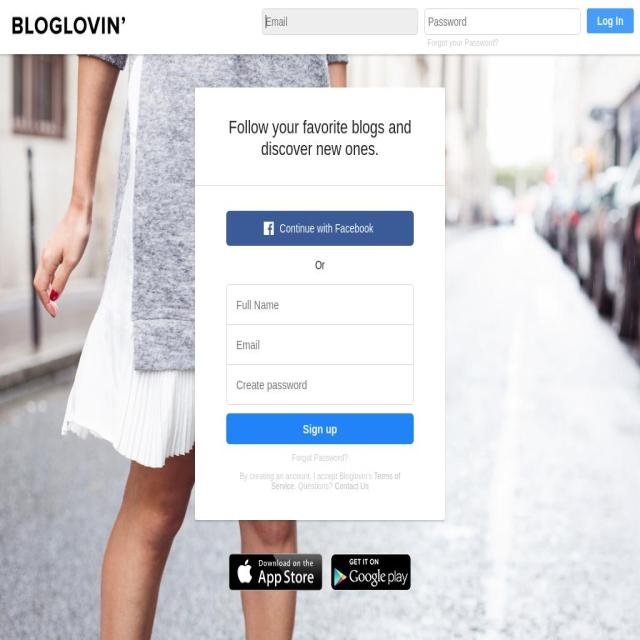button: (226, 211, 414, 247), (12, 0, 125, 53), (428, 38, 580, 48)
field: (226, 364, 414, 406), (226, 284, 414, 325), (226, 324, 414, 365), (226, 413, 414, 445), (262, 8, 418, 35), (424, 8, 580, 35), (587, 8, 634, 34)
image: (228, 553, 323, 592), (331, 553, 412, 592), (13, 17, 125, 34), (264, 222, 276, 236)
link: (271, 471, 401, 492), (292, 452, 349, 463), (334, 481, 369, 492)
text: (195, 116, 445, 186), (226, 258, 414, 272), (240, 471, 374, 482), (280, 222, 374, 235), (294, 481, 335, 492)
